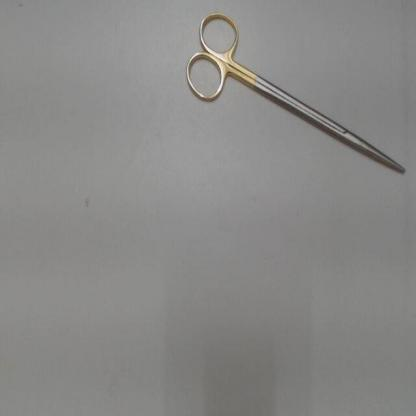7 Metzenbaum Scissors: (182, 5, 408, 179)
